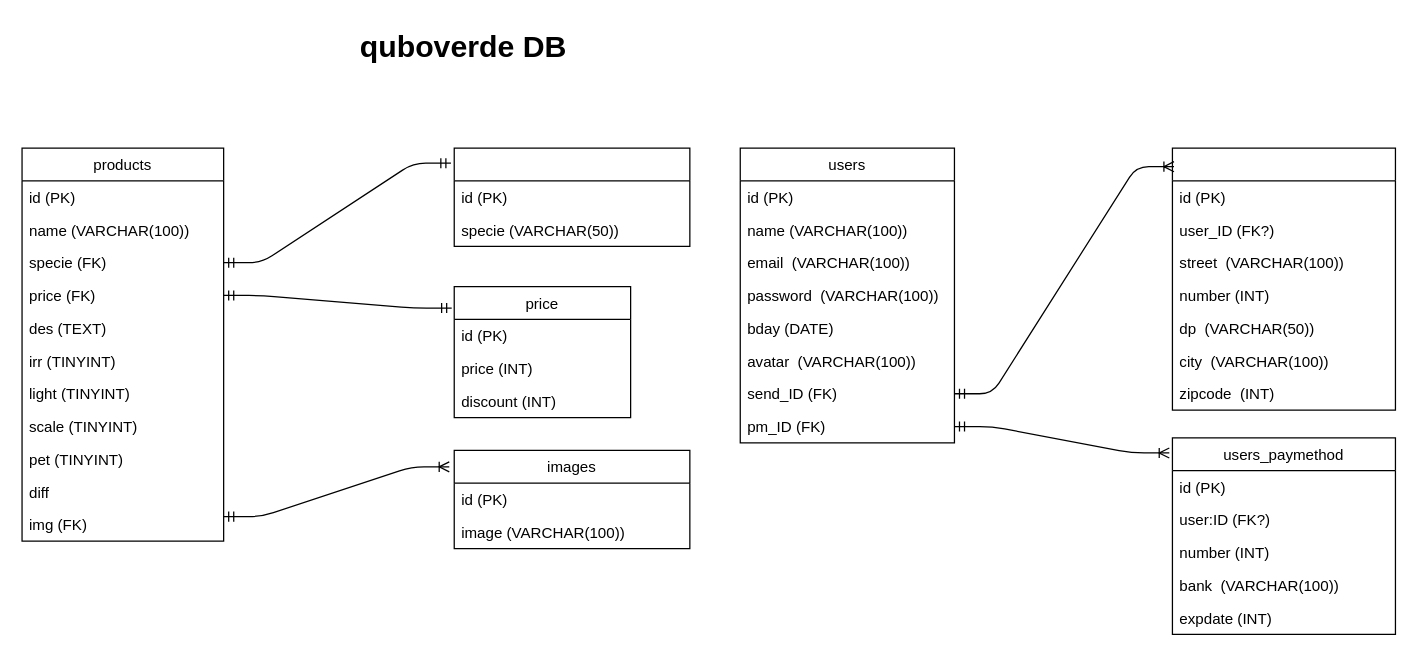
Image size: 1418x659. Some labels were removed from this diagram. The shapes that lost their labels are listed below. From the top down, each one's box as (x1, y1, x2, y2) in pixels, then its label:
(453, 147, 690, 246): species
(1171, 147, 1395, 410): users_directions
